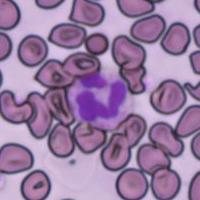N: (67, 70, 132, 130)
